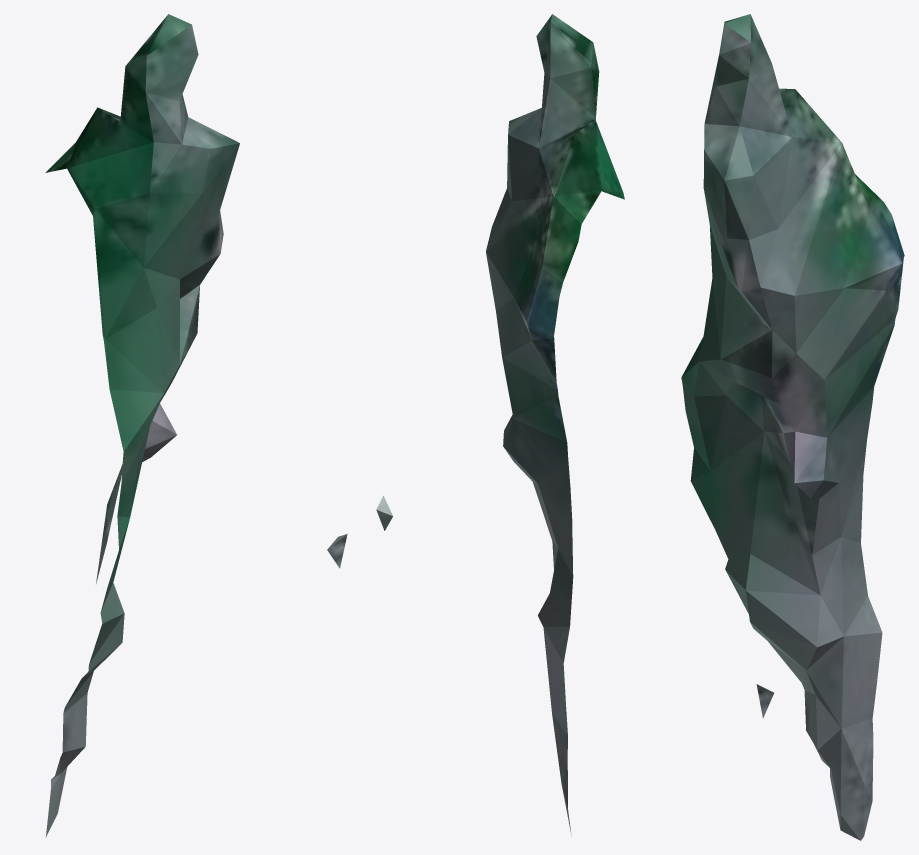
3 views of the same model, side by side, from view 1: azimuth 30°, elevation 25°; view 2: azimuth 150°, elevation 25°; view 3: azimuth 270°, elevation 25° (orthographic). The views are drawn at different scales.
Size of the model in its own units: 0.1431 by 0.4442 by 0.1038.
1 material, 1 textured.
